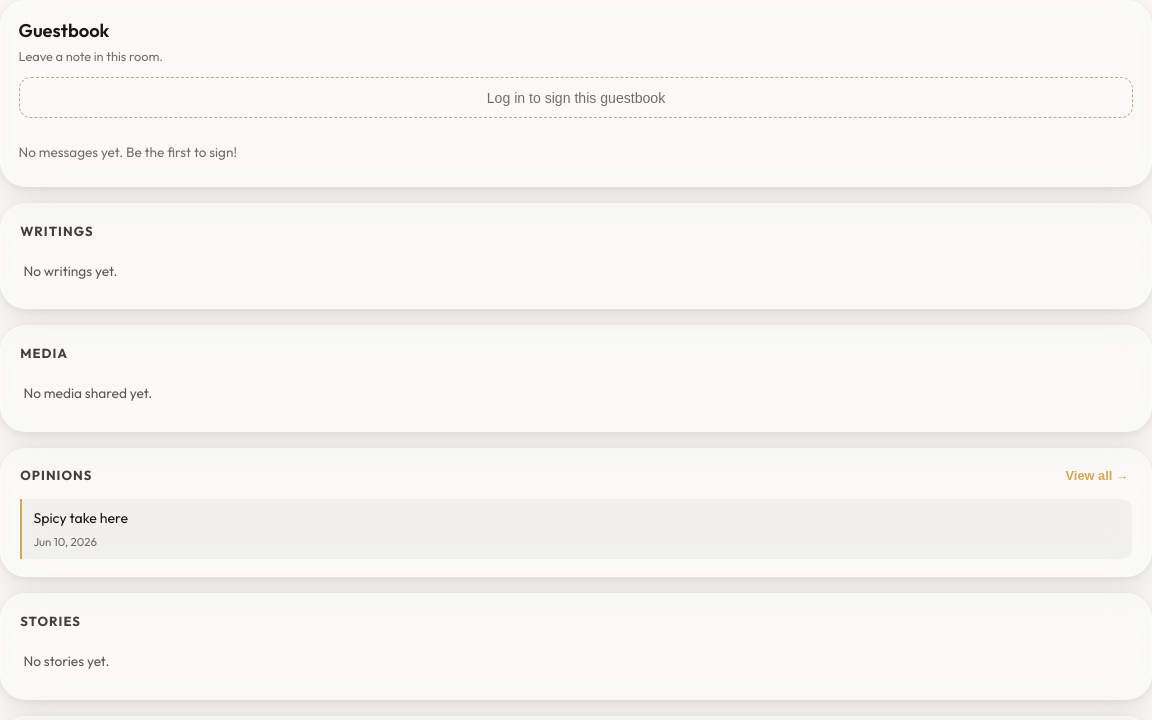
Test: ProfileLayoutRenderer (V3B real previews) › opens the block content modal when an opinion preview is clicked
Click the text "Spicy take here" at (81, 518), box [33,508,128,528]
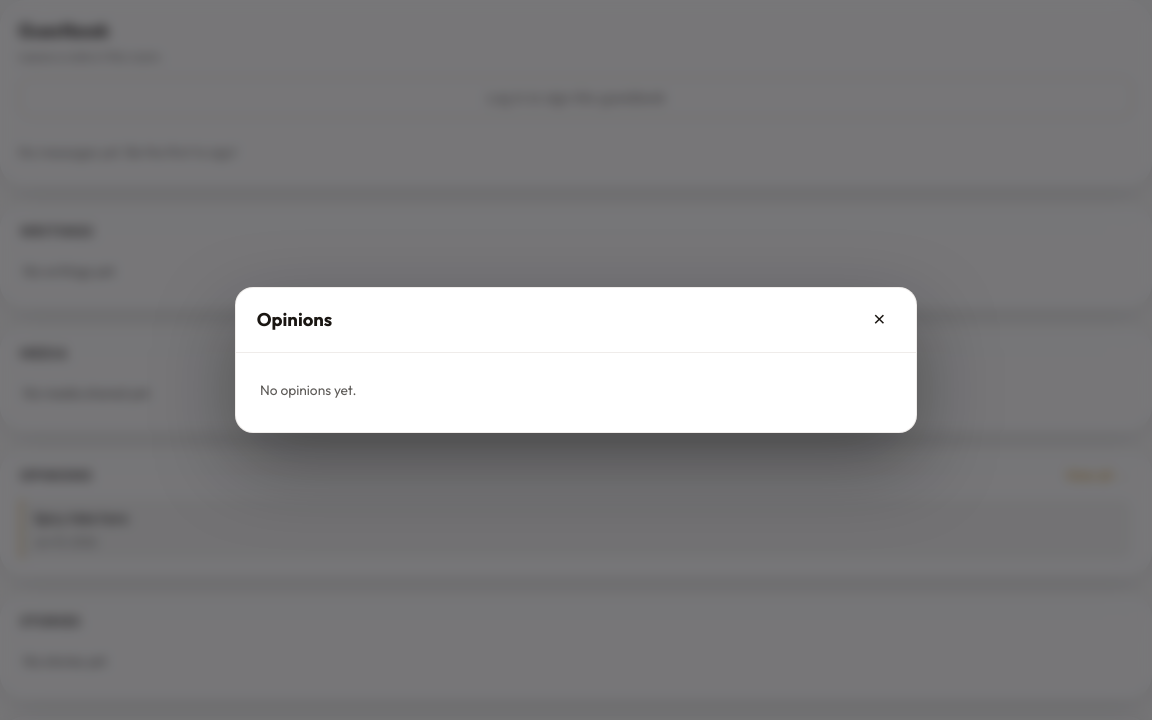
Check: the button named "Close" is shown, box [863,304,895,336]
Check: the heading "Opinions" is shown, box [257,306,332,333]
